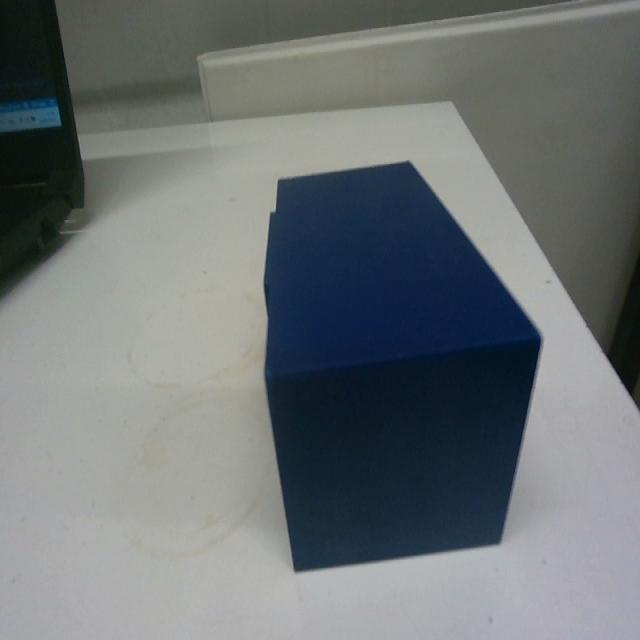Blue Cuboid: (259, 156, 544, 572)
